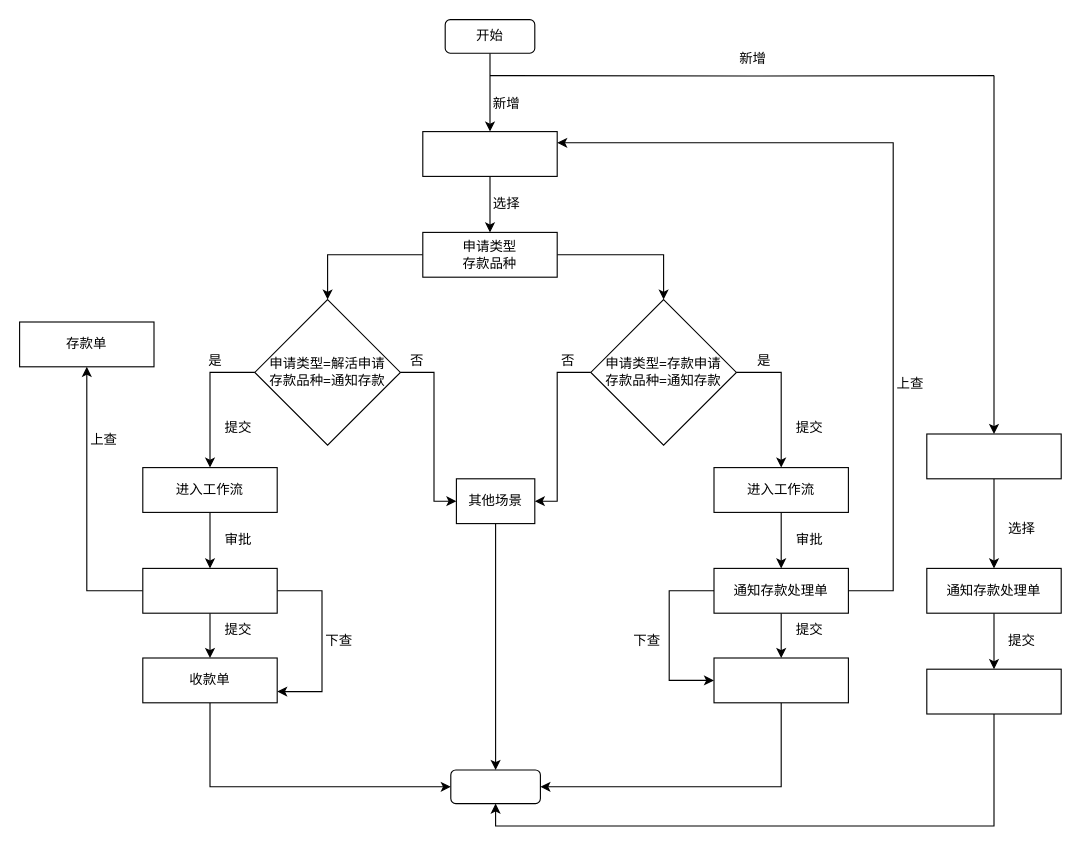
Image size: 1092x855. Some labels were removed from this diagram. The centre of each missing label's shape, as x and y in pixels:
付款单: the point at 780,680
存款业务申请: the point at 489,153
存款预提批量处理: the point at 993,456
结息记录: the point at 993,691
结束: the point at 495,786
通知存款解活处理单: the point at 209,590
